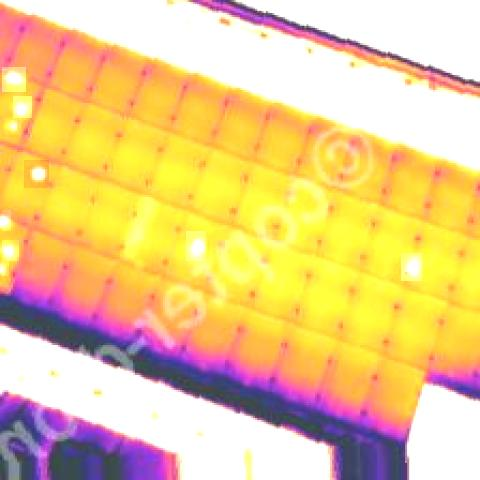fault: (24, 160, 49, 188), (186, 232, 206, 262), (2, 67, 26, 92), (401, 253, 422, 281), (13, 96, 32, 118), (2, 240, 19, 261), (4, 118, 22, 135), (2, 210, 11, 231), (2, 260, 9, 276)
